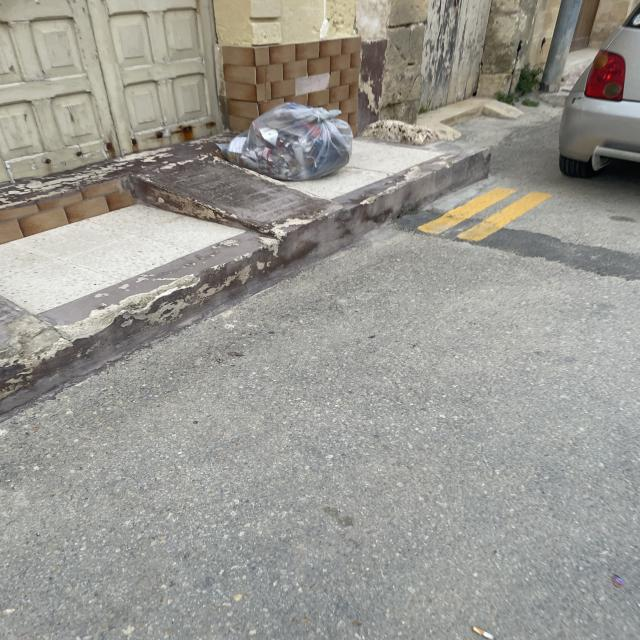grey_bag: (222, 100, 356, 184)
